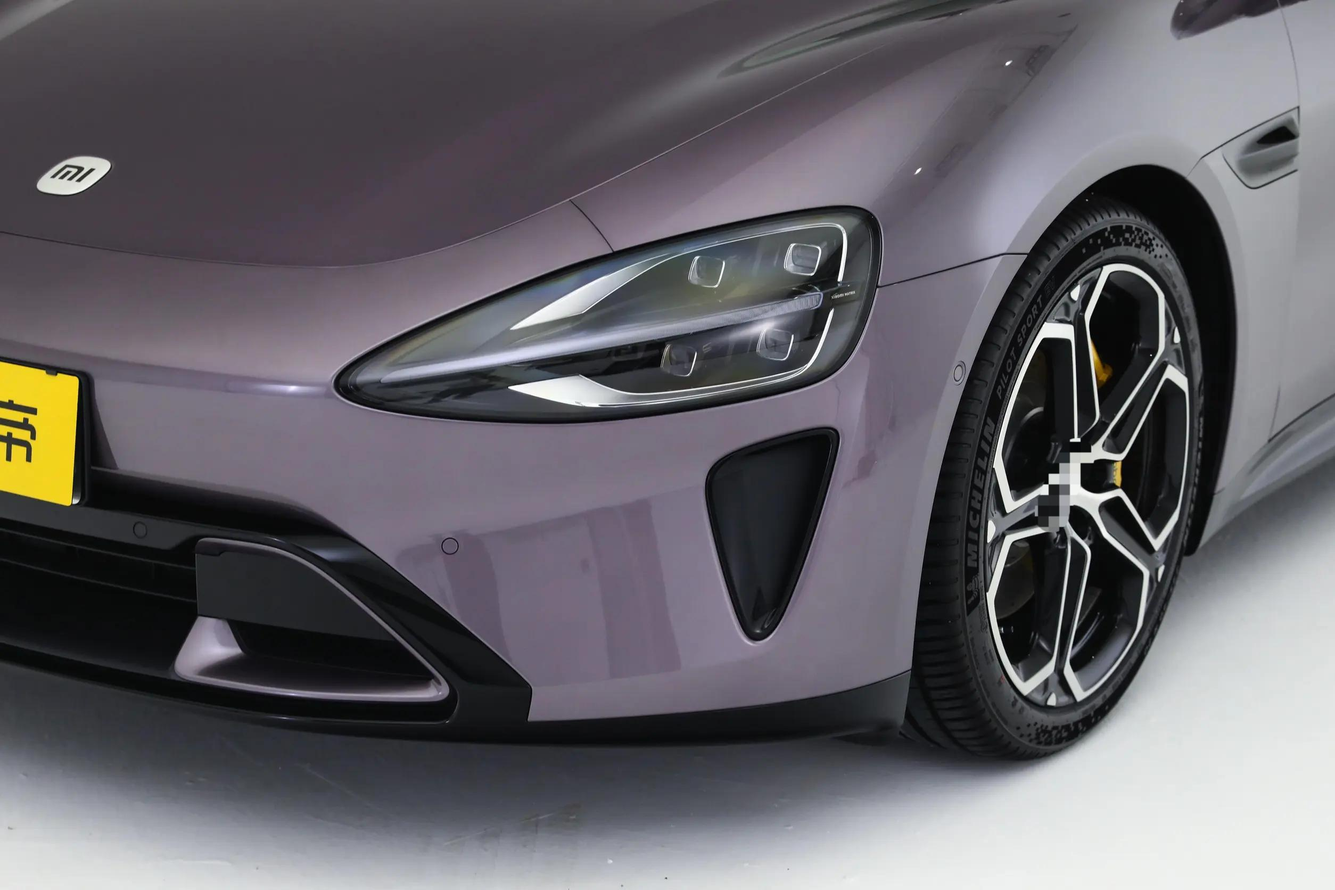XIAOMI: (36, 155, 110, 194)
